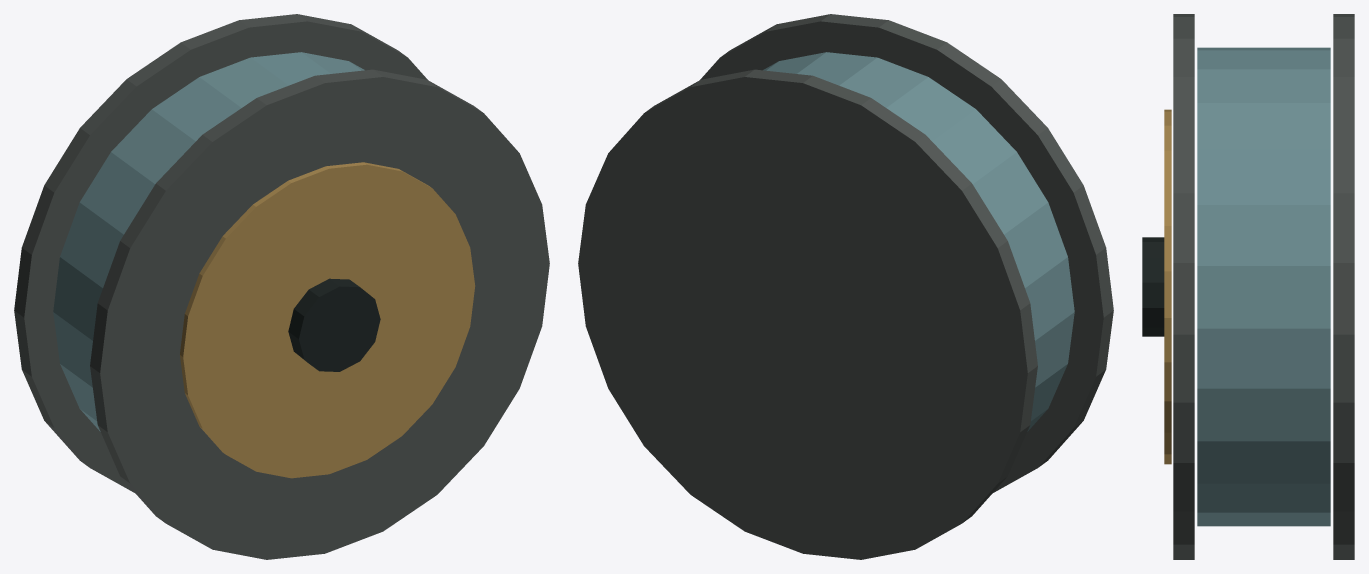
File: nylon.glb
3 views of the same model, side by side, from view 1: azimuth 30°, elevation 25°; view 2: azimuth 150°, elevation 25°; view 3: azimuth 270°, elevation 25° (orthographic). The views are drawn at different scales.
Parts seen in each view (by area): view 1: Spool_flange, Front_label, Spool_flange.001, Wound_line, Center_hub; view 2: Spool_flange.001, Spool_flange, Wound_line; view 3: Wound_line, Spool_flange, Spool_flange.001, Front_label, Center_hub.
Boxes of the visible parts, x1=… form: Spool_flange: x1=90, y1=69, x2=549, y2=559; Front_label: x1=180, y1=162, x2=475, y2=478; Spool_flange.001: x1=14, y1=14, x2=427, y2=493; Wound_line: x1=53, y1=52, x2=364, y2=431; Center_hub: x1=288, y1=278, x2=380, y2=371; Spool_flange.001: x1=578, y1=69, x2=1037, y2=559; Spool_flange: x1=700, y1=14, x2=1113, y2=493; Wound_line: x1=763, y1=52, x2=1074, y2=431; Wound_line: x1=1197, y1=47, x2=1330, y2=526; Spool_flange: x1=1173, y1=14, x2=1194, y2=559; Spool_flange.001: x1=1333, y1=14, x2=1354, y2=559; Front_label: x1=1164, y1=109, x2=1171, y2=464; Center_hub: x1=1142, y1=237, x2=1164, y2=336.
Bounding box in the file's own units: 0.308 × 0.308 × 0.1195.
